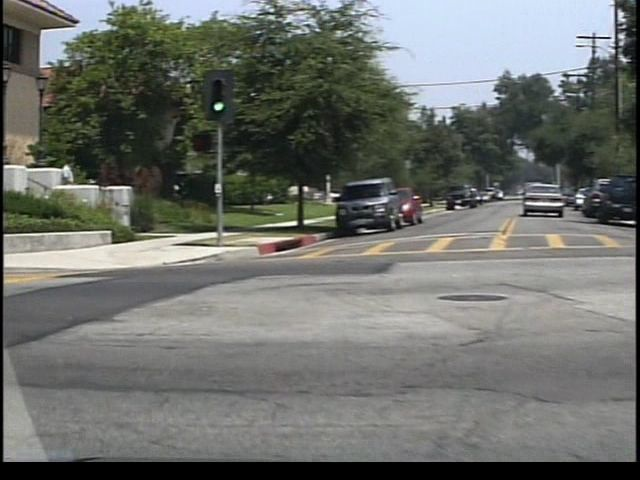person: (50, 152, 70, 216)
